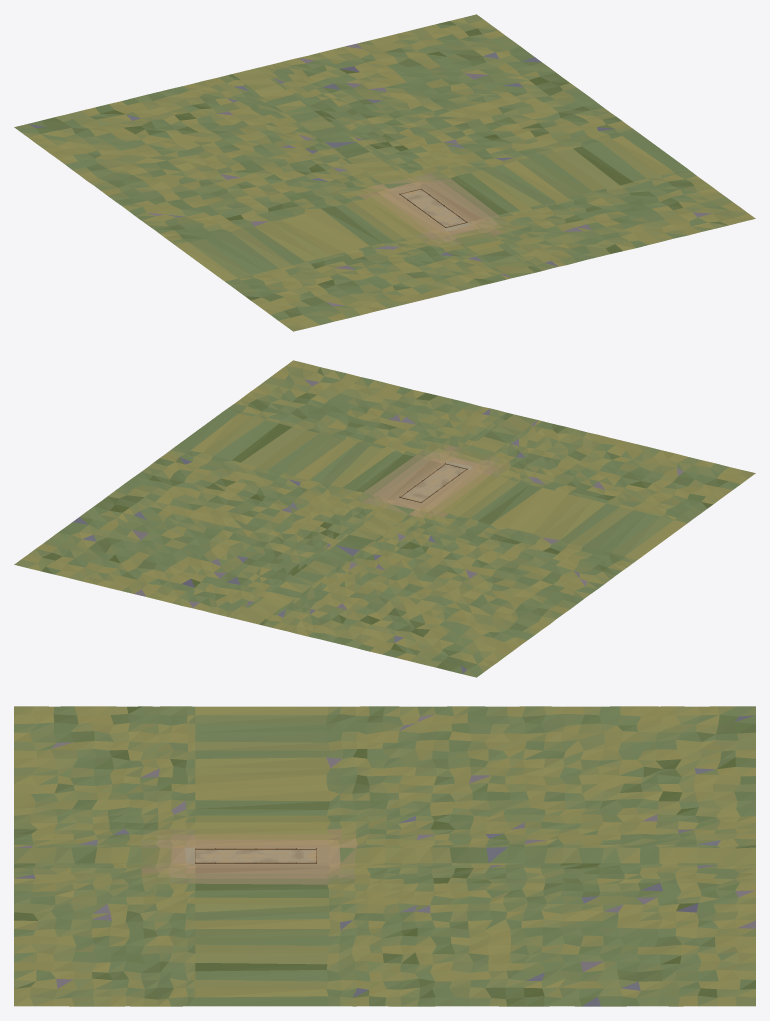
Rendered from court.glb.
3 renders of one model, top to bottom at view 1: azimuth 30°, elevation 25°; view 2: azimuth 150°, elevation 25°; view 3: azimuth 270°, elevation 25°, orthographic. The views are drawn at different scales.
Parts seen in each view (by area): view 1: court_surround, court_gravel; view 2: court_surround, court_gravel; view 3: court_surround, court_gravel.
Part boxes in pixels (left/top/right/bottom): court_surround: left=14, top=14, right=755, bottom=331; court_gravel: left=401, top=189, right=465, bottom=227; court_surround: left=14, top=360, right=755, bottom=677; court_gravel: left=401, top=464, right=465, bottom=501; court_surround: left=14, top=706, right=755, bottom=1006; court_gravel: left=195, top=849, right=316, bottom=862.
Bounding box in the file's own units: 88 × 0.194 × 92.
